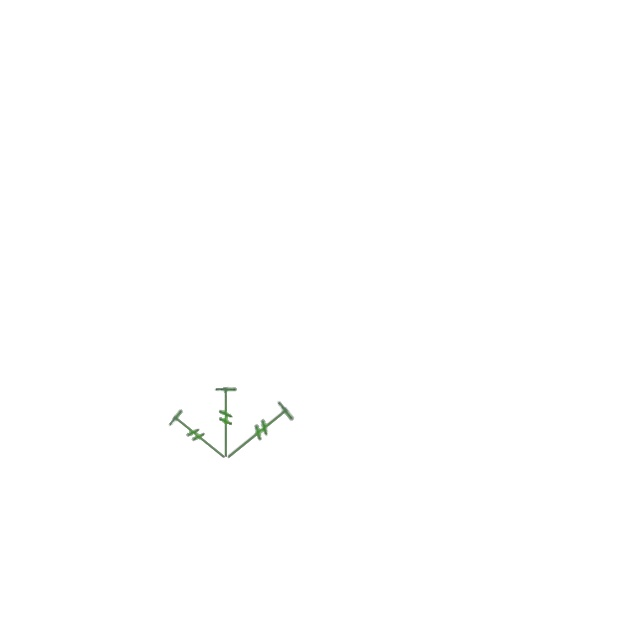fan: (218, 398, 297, 469), (166, 407, 233, 468), (214, 386, 238, 459)
